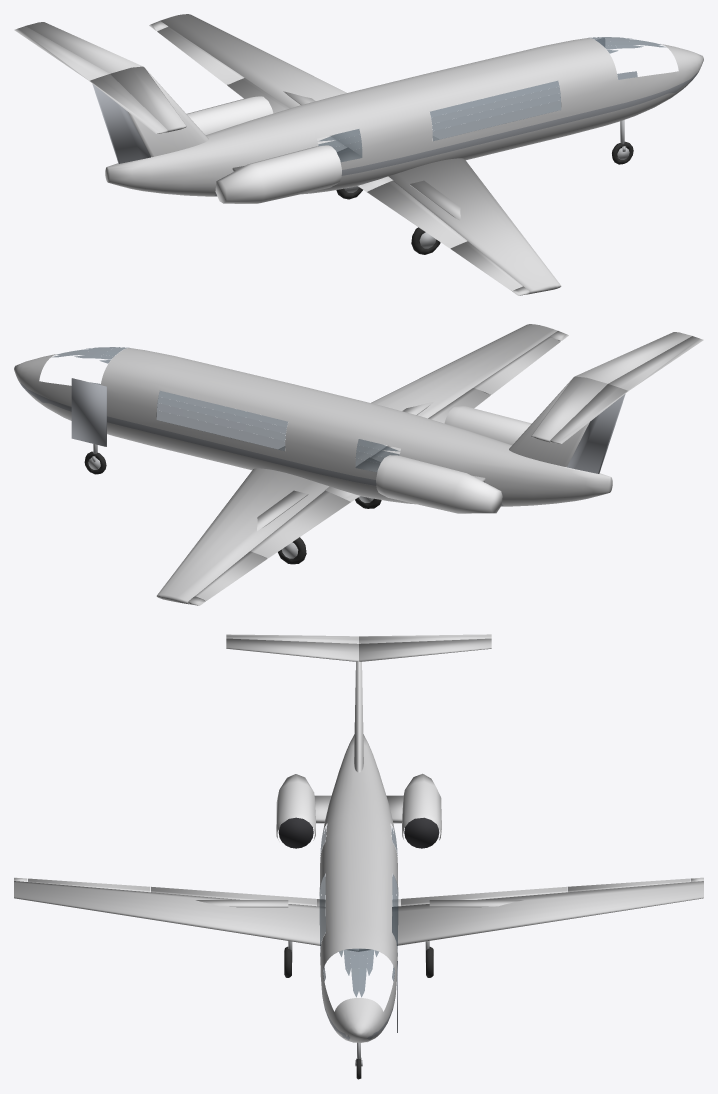
File: vesta_lod1.glb
3 renders of one model, top to bottom at view 1: azimuth 30°, elevation 25°; view 2: azimuth 150°, elevation 25°; view 3: azimuth 270°, elevation 25°, orthographic. The views are drawn at different scales.
Visible parts, largest first — view 1: fuselage, wing_R, wing_L, glass, nacelle_2, stabilizer, elevator, flap_R_1, rudder, fin, nacelle_1, aileron_L (+3 smaller); view 2: fuselage, wing_L, wing_R, glass, nacelle_1, stabilizer, elevator, door_main, flap_L_1, rudder, nacelle_2, fin (+4 smaller); view 3: fuselage, wing_R, wing_L, stabilizer, glass, elevator, nacelle_2, nacelle_1, flap_L_1, flap_R_1, fin, fan_1_face (+1 smaller).
Boxes of the visible parts, left/top/right/bottom form: fuselage: left=105, top=38, right=703, bottom=196; wing_R: left=358, top=158, right=561, bottom=295; wing_L: left=149, top=14, right=439, bottom=161; glass: left=318, top=37, right=665, bottom=162; nacelle_2: left=215, top=145, right=341, bottom=203; stabilizer: left=26, top=22, right=186, bottom=132; elevator: left=14, top=26, right=167, bottom=133; flap_R_1: left=367, top=180, right=467, bottom=248; rudder: left=92, top=84, right=150, bottom=163; fin: left=128, top=69, right=208, bottom=156; nacelle_1: left=187, top=96, right=273, bottom=134; aileron_L: left=157, top=27, right=244, bottom=84; fuselage: left=14, top=348, right=612, bottom=506; wing_L: left=156, top=468, right=359, bottom=605; wing_R: left=278, top=324, right=568, bottom=471; glass: left=52, top=347, right=399, bottom=472; nacelle_1: left=376, top=455, right=502, bottom=513; stabilizer: left=531, top=332, right=691, bottom=442; elevator: left=550, top=336, right=703, bottom=443; door_main: left=71, top=378, right=106, bottom=446; flap_L_1: left=250, top=490, right=350, bottom=558; rudder: left=567, top=394, right=625, bottom=473; nacelle_2: left=444, top=406, right=531, bottom=444; fin: left=509, top=379, right=589, bottom=466; fuselage: left=319, top=734, right=398, bottom=1042; wing_R: left=14, top=877, right=358, bottom=951; wing_L: left=359, top=877, right=703, bottom=951; stabilizer: left=226, top=638, right=491, bottom=661; glass: left=319, top=826, right=398, bottom=997; elevator: left=226, top=634, right=491, bottom=643; nacelle_2: left=276, top=774, right=315, bottom=841; nacelle_1: left=402, top=773, right=441, bottom=840; flap_L_1: left=401, top=886, right=566, bottom=906; flap_R_1: left=151, top=886, right=316, bottom=906; fin: left=354, top=661, right=363, bottom=772; fan_1_face: left=404, top=817, right=439, bottom=848.
Bounding box in the file's own units: 15.05 × 5.15 × 15.6.
